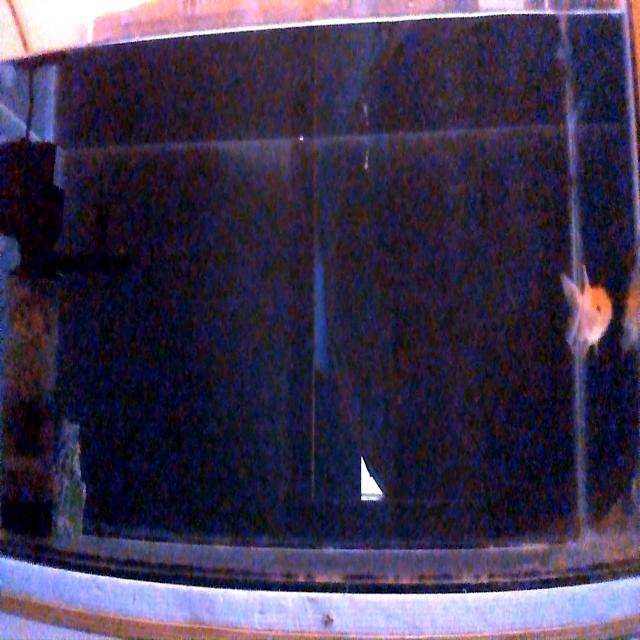fish: (559, 262, 613, 355), (621, 278, 640, 348)
